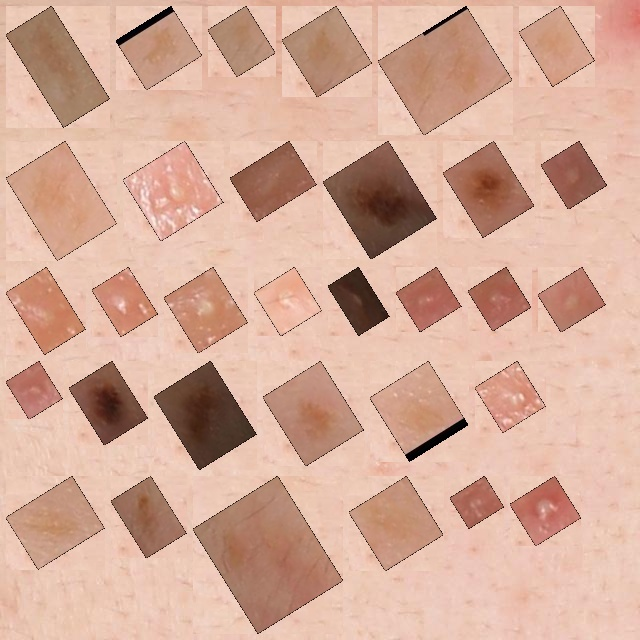hypertrophic_scar: (241, 152, 305, 210)
melasma: (204, 487, 332, 622), (389, 17, 501, 124), (17, 152, 106, 249), (17, 17, 99, 116), (274, 372, 353, 455), (381, 372, 457, 450), (17, 487, 93, 558), (360, 487, 432, 560), (293, 17, 361, 86), (127, 17, 191, 79), (122, 487, 175, 547), (530, 17, 583, 75), (219, 17, 264, 65)
nevus: (334, 152, 425, 248), (165, 372, 245, 458), (454, 152, 523, 226), (80, 372, 137, 434)
pustule: (134, 152, 212, 230), (175, 278, 237, 342), (17, 278, 74, 343), (486, 372, 534, 421), (521, 487, 570, 535), (265, 278, 311, 325), (103, 278, 147, 325), (552, 152, 596, 198), (549, 278, 594, 321), (407, 278, 450, 320), (339, 278, 378, 324), (479, 278, 520, 320), (17, 372, 51, 408), (461, 487, 493, 517)
